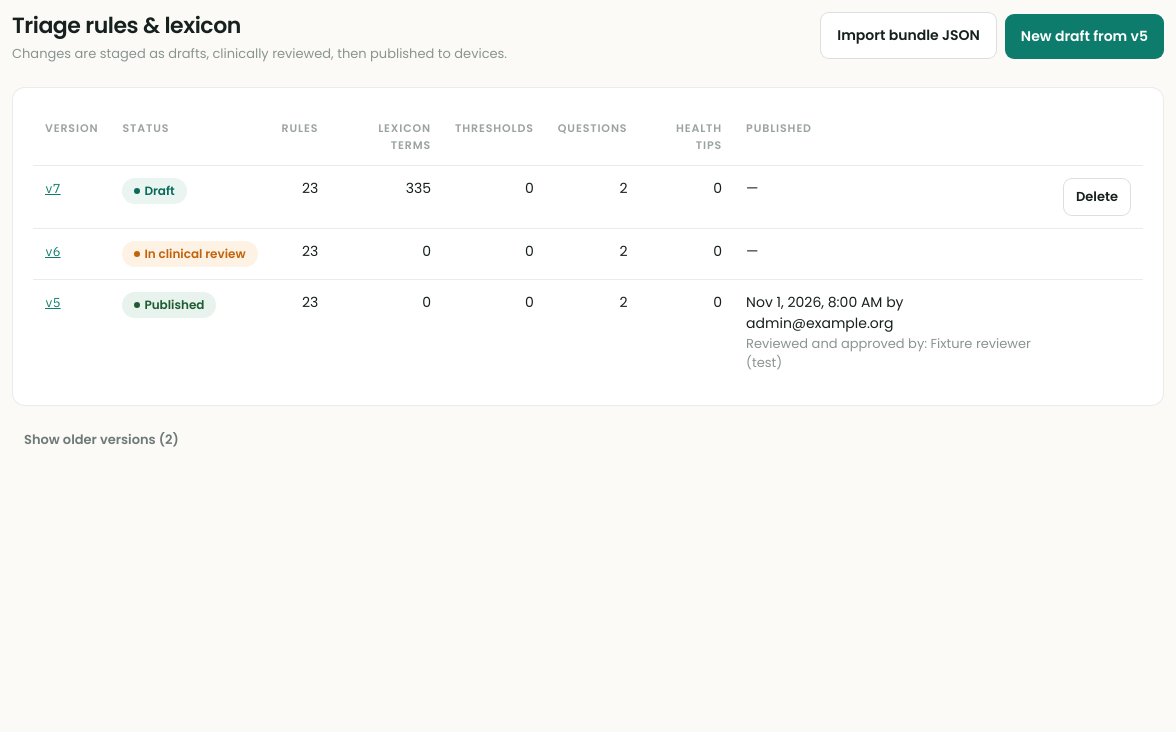
Triage rules & lexicon: the version list › keeps saved-over and retired versions behind a toggle, so the list stays readable
The image size is (1176, 732).
Expected: the link "v7" is shown, [45,180,61,197]
Expected: the link "v6" is shown, [45,242,61,260]
Click the button "Show older versions (2)". click: click(101, 439)
box: [12,422,191,457]
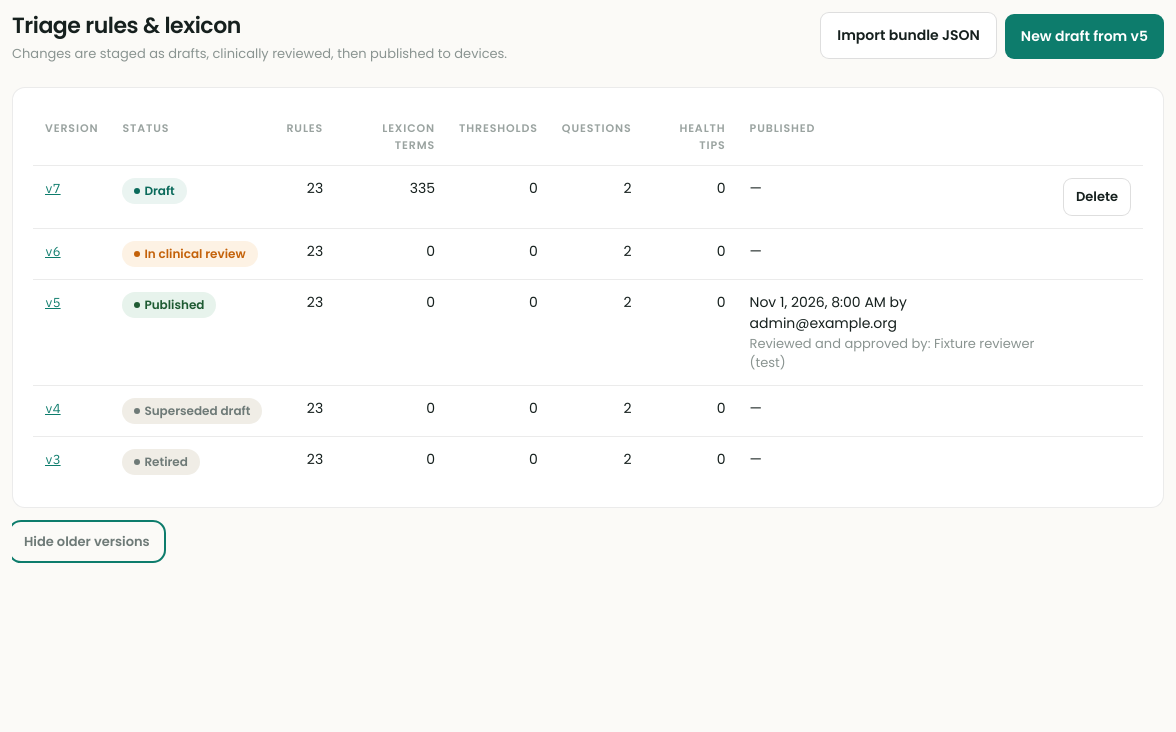
Expected: the link "v4" is shown, [45,400,61,416]
Expected: the link "v3" is shown, [45,450,61,468]
Click the button "Hide older versions". click: click(87, 541)
box: [12,524,162,559]
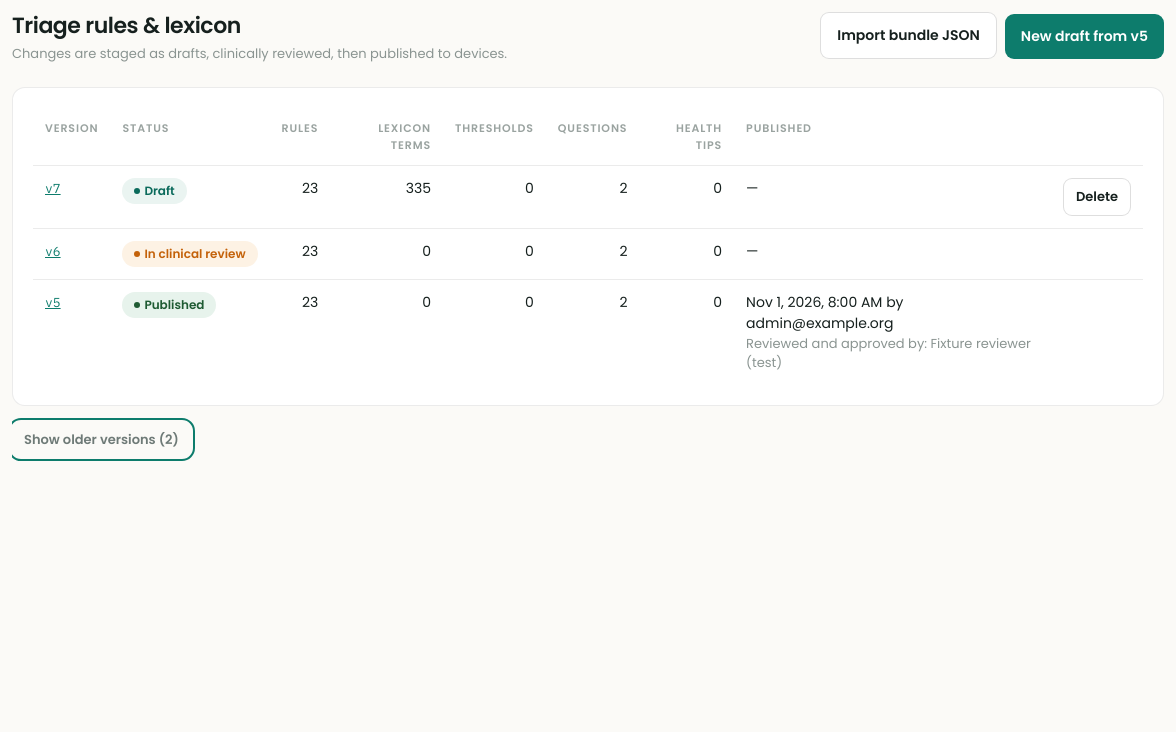
Expected: the link "v4" is gone
